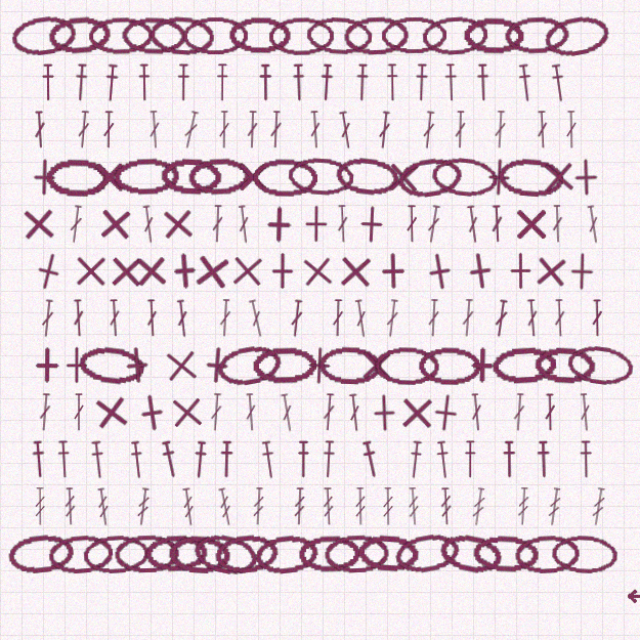chain: (529, 21, 598, 69), (186, 527, 254, 575), (426, 527, 494, 575), (209, 343, 278, 390), (383, 527, 452, 574), (386, 160, 454, 206), (552, 344, 621, 389), (9, 22, 77, 67), (75, 345, 142, 389), (247, 529, 313, 573), (420, 161, 487, 204), (6, 529, 73, 572), (326, 161, 392, 204), (208, 529, 274, 572), (485, 162, 551, 204), (46, 530, 111, 572), (145, 24, 211, 65), (411, 24, 477, 65), (280, 162, 346, 203), (298, 25, 364, 65), (80, 531, 146, 571), (46, 24, 110, 65), (479, 347, 544, 387), (461, 531, 526, 571), (538, 531, 603, 571), (348, 530, 411, 571), (163, 531, 227, 571), (502, 531, 566, 571), (492, 25, 557, 64), (110, 163, 175, 202), (316, 531, 381, 570), (335, 25, 399, 64), (310, 347, 374, 386), (111, 531, 175, 570), (521, 347, 583, 387), (262, 26, 327, 64), (183, 163, 246, 202), (141, 531, 204, 570), (118, 26, 182, 64), (246, 164, 310, 202), (365, 348, 429, 386), (156, 163, 218, 202), (178, 26, 243, 63), (86, 26, 149, 64), (246, 348, 309, 386), (408, 348, 471, 386), (372, 26, 436, 63), (44, 164, 106, 202), (291, 532, 353, 570), (452, 26, 513, 64), (223, 26, 285, 63)
double: (177, 118, 196, 156), (241, 302, 260, 340), (329, 118, 346, 156), (415, 210, 432, 248), (571, 210, 588, 248), (344, 302, 361, 340), (481, 302, 498, 340), (272, 394, 289, 432), (66, 210, 82, 248), (137, 210, 153, 248), (230, 210, 246, 248), (454, 210, 470, 248), (170, 302, 186, 340), (375, 302, 391, 340), (368, 118, 383, 156), (411, 118, 426, 156), (39, 302, 54, 340), (282, 302, 297, 340), (339, 394, 354, 432), (74, 118, 89, 155), (458, 394, 473, 431), (564, 394, 579, 431), (32, 118, 46, 155), (144, 118, 158, 155), (301, 118, 315, 155), (105, 302, 119, 339), (213, 302, 227, 339), (450, 302, 464, 339), (513, 302, 527, 339), (37, 394, 51, 431), (204, 394, 218, 431), (238, 394, 252, 431), (314, 394, 328, 431), (500, 394, 514, 431), (240, 118, 253, 155), (263, 118, 276, 155), (443, 118, 456, 155), (482, 118, 495, 155), (523, 118, 536, 155), (206, 210, 219, 247), (328, 210, 341, 247), (479, 210, 492, 247), (538, 210, 551, 247), (70, 302, 83, 339), (142, 302, 155, 339), (417, 302, 430, 339), (540, 302, 553, 339), (100, 118, 112, 155), (213, 118, 225, 155), (552, 118, 564, 155), (396, 210, 408, 247), (324, 302, 336, 339), (577, 302, 589, 339), (71, 394, 83, 431), (531, 394, 543, 431)
half_double: (155, 439, 176, 478), (351, 439, 372, 478), (536, 72, 555, 110), (253, 440, 272, 478), (504, 72, 522, 110), (125, 440, 143, 478), (424, 440, 442, 478), (87, 440, 104, 478), (187, 440, 204, 478), (397, 440, 414, 478), (101, 72, 117, 110), (71, 72, 87, 109), (311, 72, 327, 109), (30, 440, 46, 477), (313, 440, 329, 477), (284, 72, 299, 109), (346, 72, 361, 109), (404, 72, 419, 109), (433, 72, 448, 109), (464, 72, 479, 109), (55, 440, 70, 477), (523, 440, 538, 477), (40, 72, 54, 109), (134, 72, 148, 109), (172, 72, 186, 109), (210, 72, 224, 109), (252, 72, 266, 109), (376, 72, 390, 109), (214, 440, 228, 477), (289, 440, 303, 477), (452, 440, 466, 477), (490, 440, 504, 477), (565, 440, 579, 477)
noise: (610, 585, 640, 599)
single: (25, 253, 69, 297), (186, 254, 228, 296), (408, 254, 450, 296), (127, 392, 169, 434), (448, 254, 489, 295), (88, 392, 129, 433), (290, 255, 330, 295), (518, 255, 558, 295), (157, 347, 197, 387), (415, 393, 455, 433), (526, 163, 565, 202), (18, 209, 57, 248), (93, 209, 132, 248), (154, 209, 193, 248), (128, 255, 167, 294), (161, 255, 200, 294), (222, 255, 261, 294), (114, 347, 153, 386), (192, 347, 231, 386), (163, 393, 202, 432), (24, 164, 62, 202), (375, 164, 413, 202), (468, 164, 506, 202), (553, 164, 591, 202), (253, 210, 291, 248), (344, 210, 382, 248), (104, 256, 142, 294), (328, 256, 366, 294), (549, 256, 587, 294), (293, 348, 331, 386), (356, 394, 394, 432), (388, 394, 426, 432), (88, 164, 125, 201), (228, 164, 265, 201), (290, 210, 327, 247), (500, 210, 537, 247), (70, 256, 107, 293), (257, 256, 294, 293), (365, 256, 402, 293), (490, 256, 527, 293), (27, 348, 64, 385), (56, 348, 93, 385), (349, 348, 386, 385), (452, 348, 489, 385)
treble: (211, 486, 229, 524), (459, 486, 476, 524), (533, 486, 550, 524), (576, 486, 593, 524), (93, 486, 109, 524), (132, 486, 148, 524), (176, 486, 192, 524), (397, 486, 411, 523), (504, 486, 518, 523), (62, 486, 75, 523), (246, 486, 259, 523), (286, 486, 299, 523), (314, 486, 327, 523), (429, 486, 442, 523), (33, 486, 45, 523), (346, 486, 358, 523), (373, 486, 385, 523)
